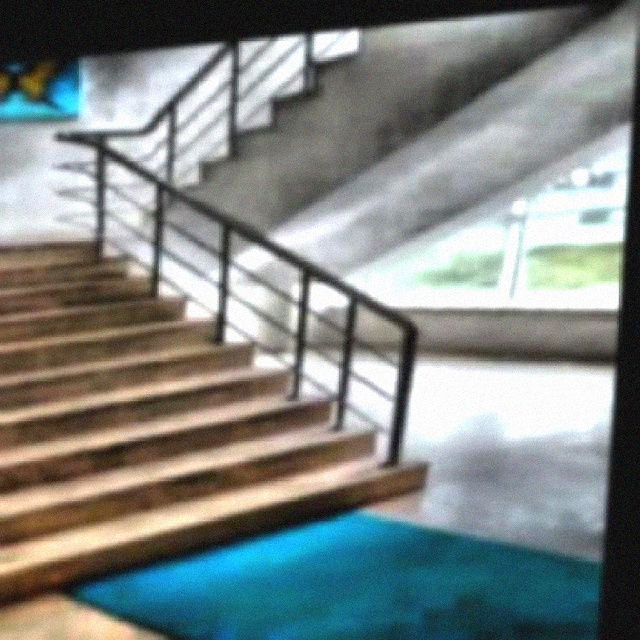stair: (1, 180, 497, 603)
